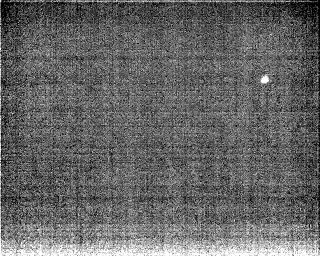AIRPLANE: (259, 73, 272, 85)
